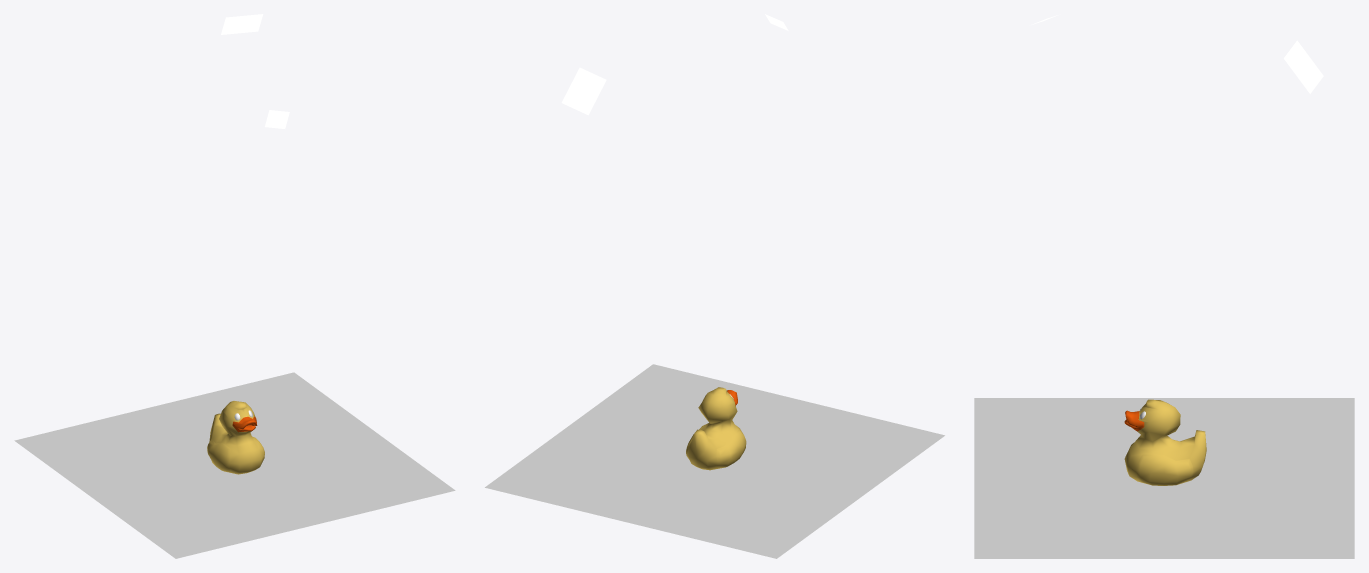
File: rubber-duck.glb
3 renders of one model, left to right at view 1: azimuth 30°, elevation 25°; view 2: azimuth 150°, elevation 25°; view 3: azimuth 270°, elevation 25°, orthographic. The views are drawn at different scales.
Visible parts, largest first — view 1: Ground Plane, Rubber Duck, Light1; view 2: Ground Plane, Rubber Duck, Light1; view 3: Ground Plane, Rubber Duck, Light1.
Boxes of the visible parts, x1,y1,x2,y2 form: Ground Plane: (14,372,455,558); Rubber Duck: (207,401,264,474); Light1: (221,14,263,34); Ground Plane: (485,364,944,558); Rubber Duck: (686,387,746,470); Light1: (561,67,606,115); Ground Plane: (974,398,1354,558); Rubber Duck: (1124,399,1206,485); Light1: (1284,40,1323,93).
Size of the model in its own units: 16 by 21.59 by 16.
